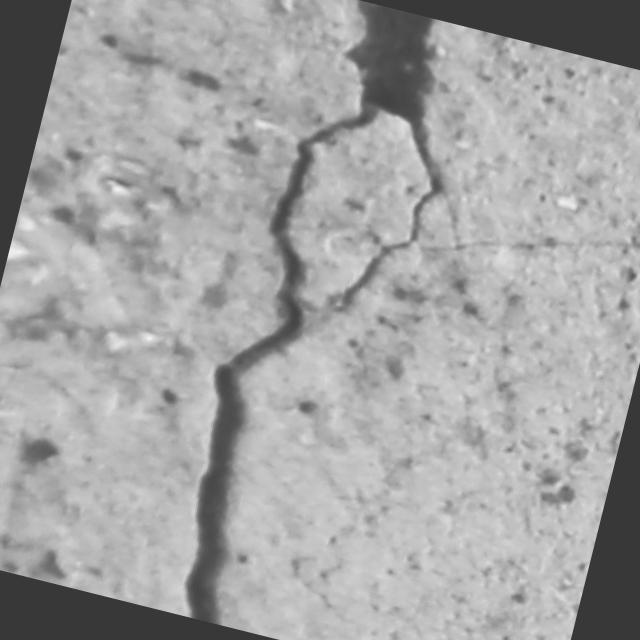crack: (156, 0, 485, 640), (423, 184, 640, 321)
